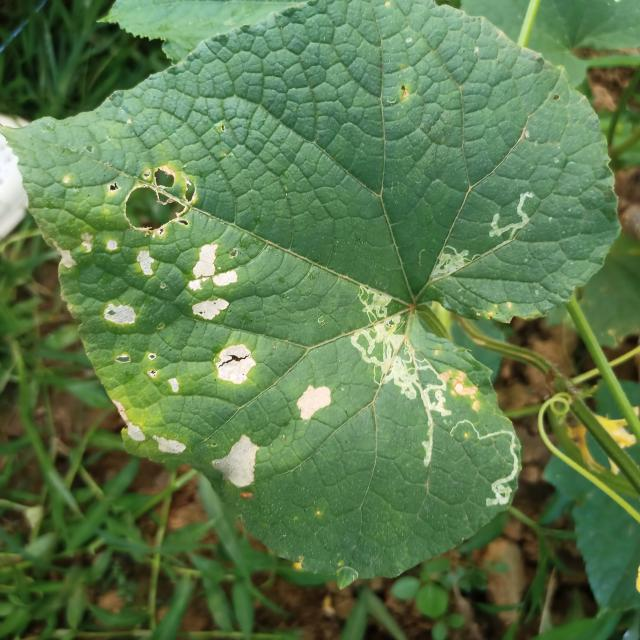disease_cucumber: (33, 163, 334, 494)
